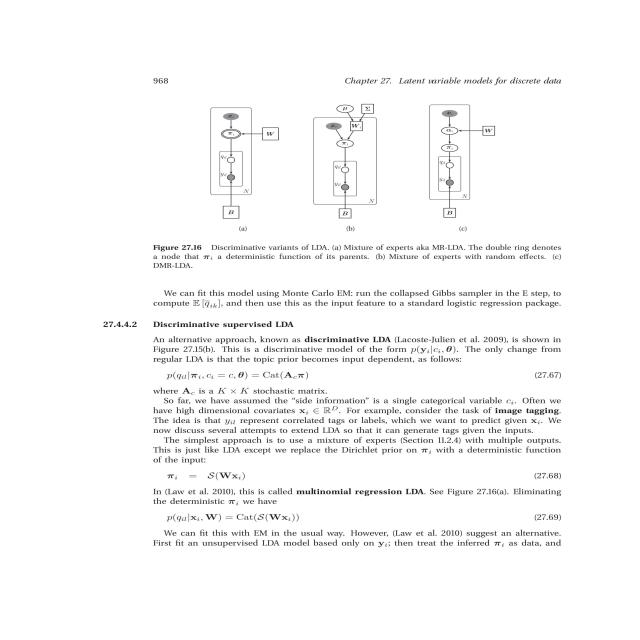diagram: (97, 90, 611, 275)
